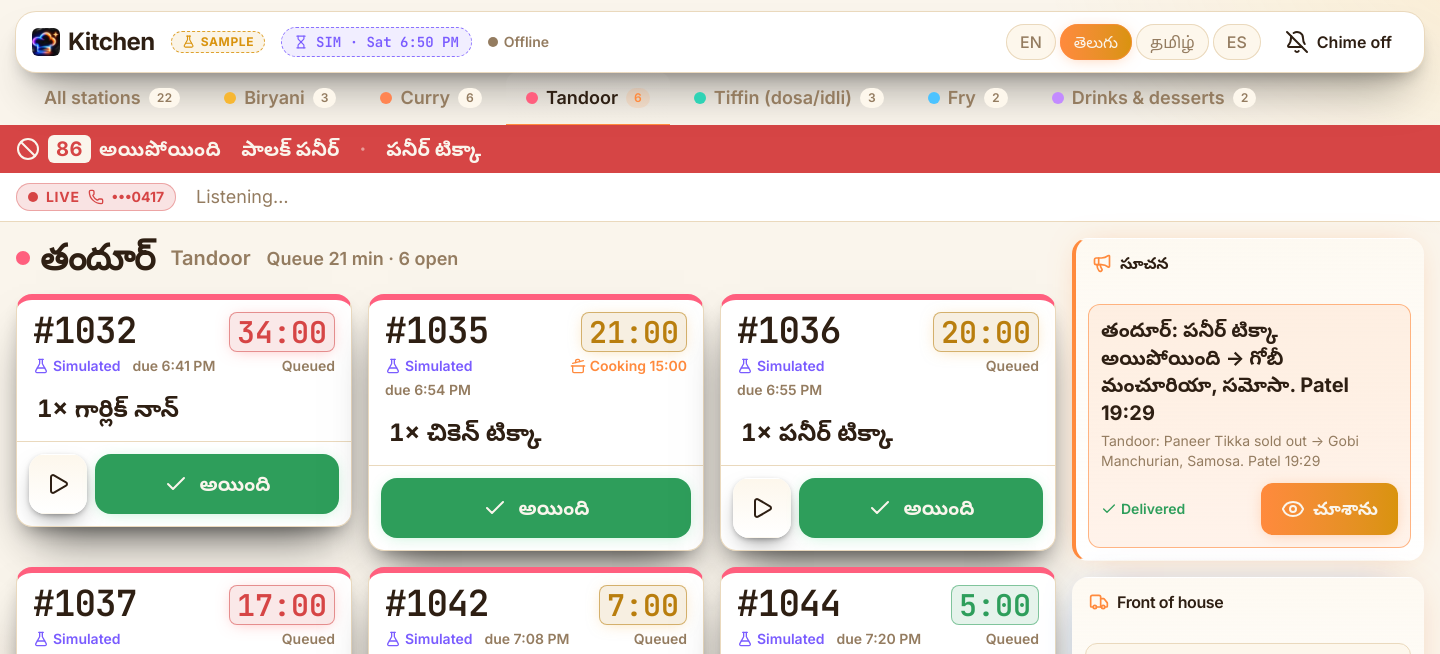
Test case: notice_delivered_ack_on_render
Expected: the text "Delivered" is shown, [1101, 499, 1185, 519]
Click the button "చూశాను".
click(1330, 509)  # box [1261, 483, 1398, 535]
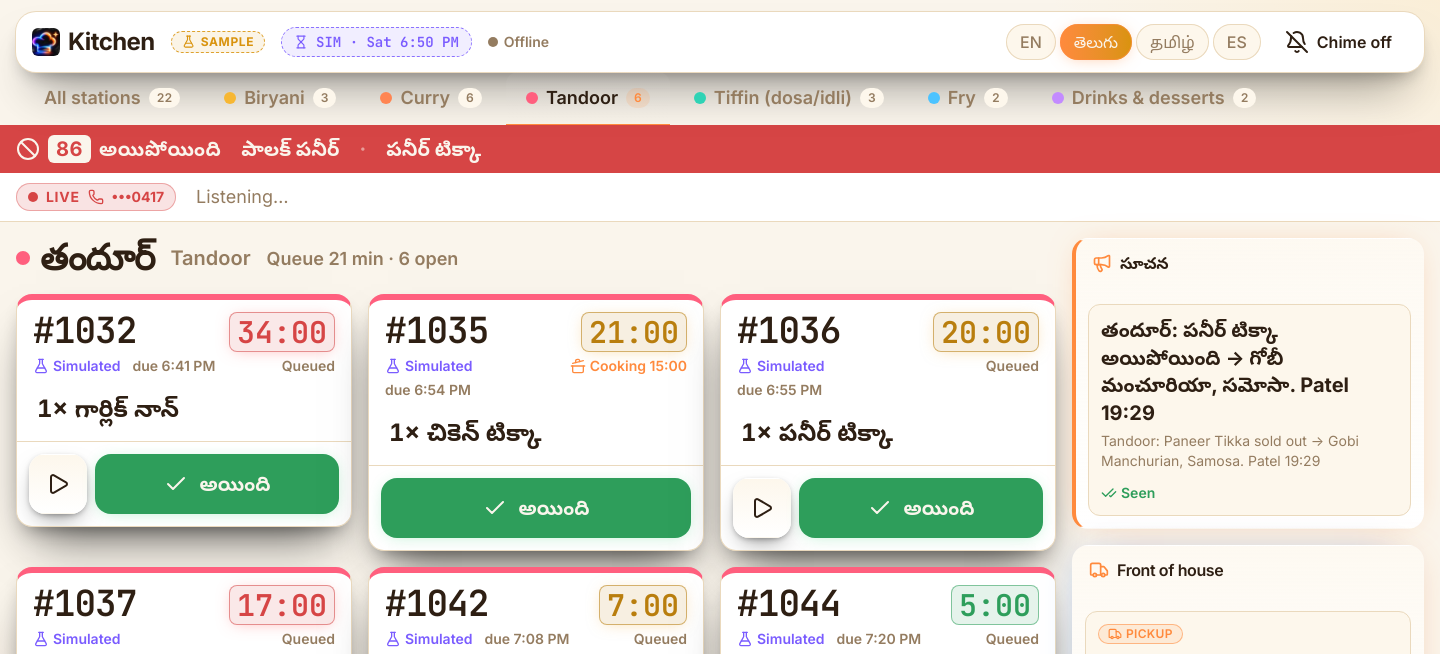
Expected: the text "Seen" is shown, [1101, 483, 1155, 503]
